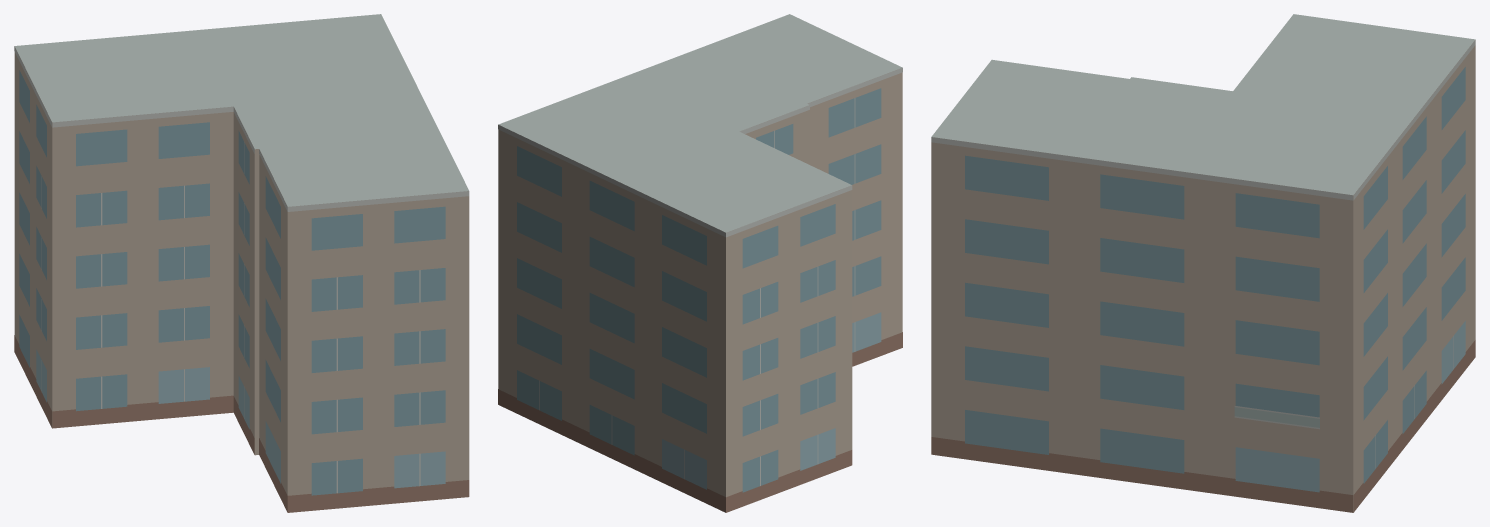
File: survey-upis-32538896.glb
3 renders of one model, left to right at view 1: azimuth 30°, elevation 25°; view 2: azimuth 150°, elevation 25°; view 3: azimuth 270°, elevation 25°, orthographic. The views are drawn at different scales.
Parts seen in each view (by area): view 1: survey-upis-32538896.tmp; view 2: survey-upis-32538896.tmp; view 3: survey-upis-32538896.tmp.
Part boxes in pixels (<box>): survey-upis-32538896.tmp: <box>14,14,469,512</box>; survey-upis-32538896.tmp: <box>498,14,902,512</box>; survey-upis-32538896.tmp: <box>931,14,1475,512</box>.
Bounding box in the file's own units: 17.63 × 14.4 × 22.37.
